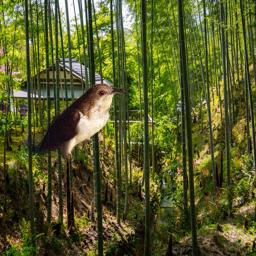Cuckoo: (22, 83, 127, 160)
